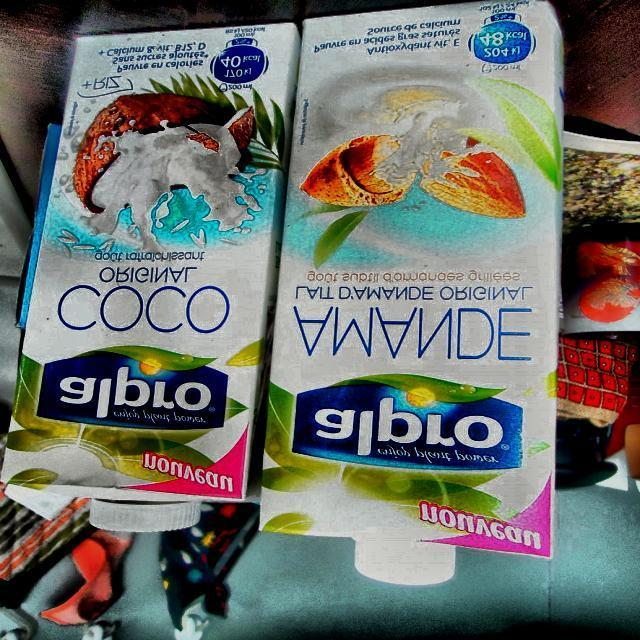cardboard: (256, 0, 565, 569), (1, 22, 300, 512)
